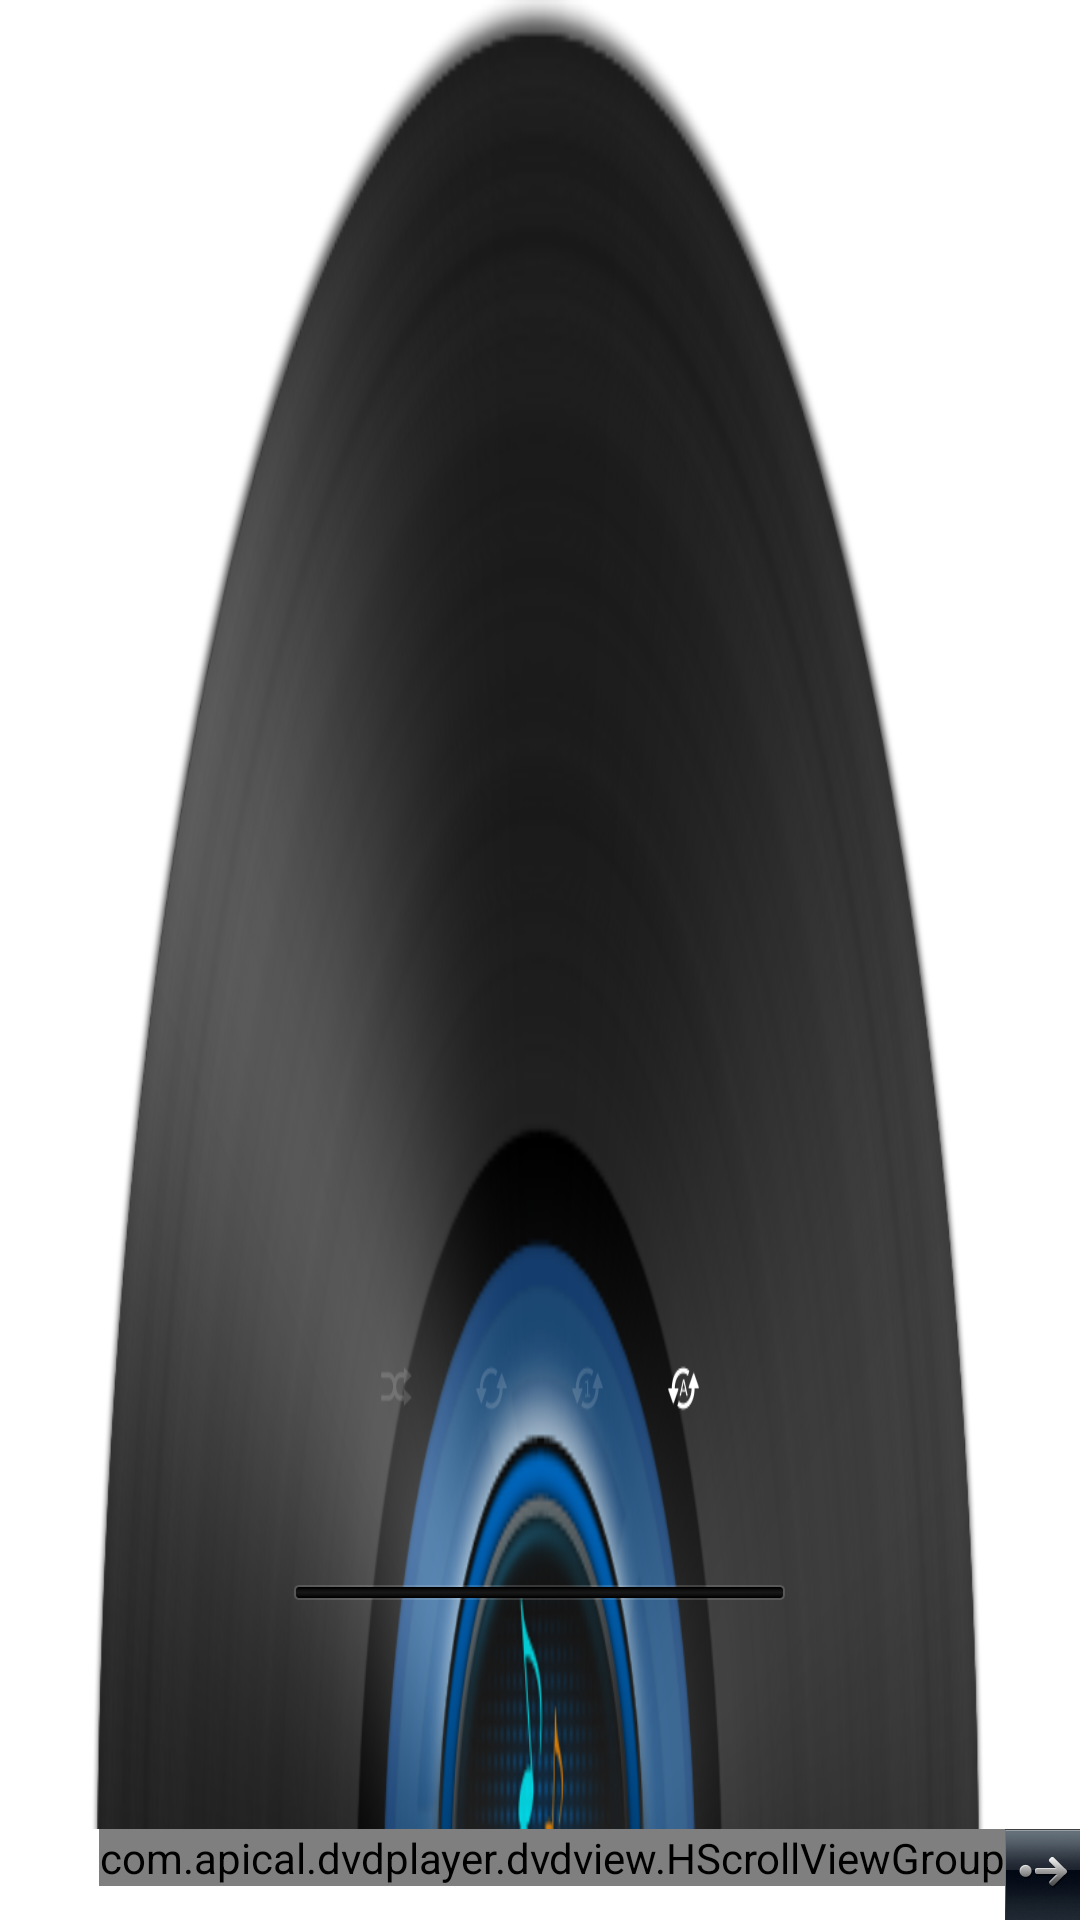

Named icons in this screenshot (1080px×1920px) and their centers, point (x, y):
nextpagebtn: point (1042, 1874)
radiobtn onecirculation: point (586, 1394)
radiobtn random: point (396, 1386)
